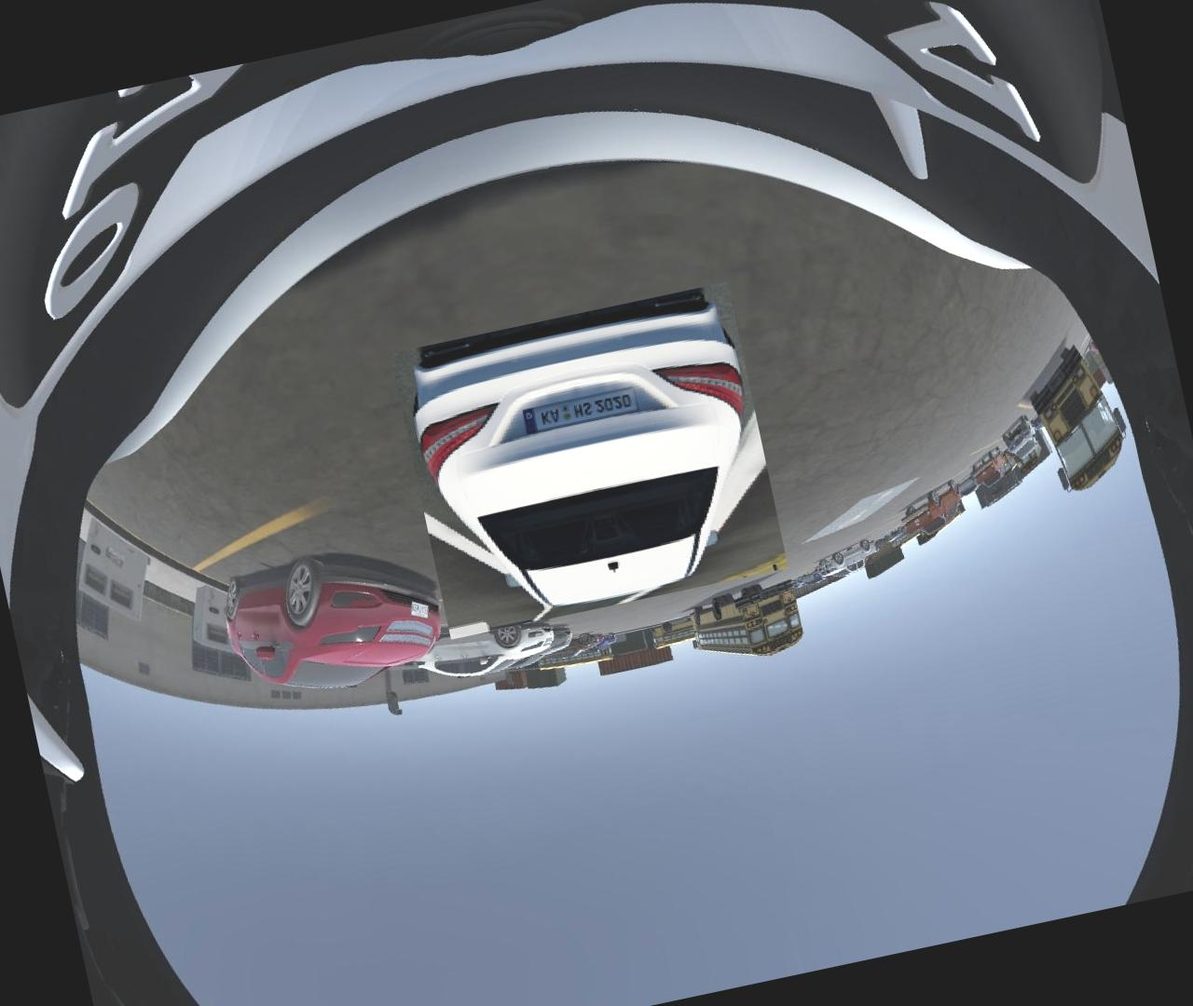Car: (385, 274, 790, 646)
